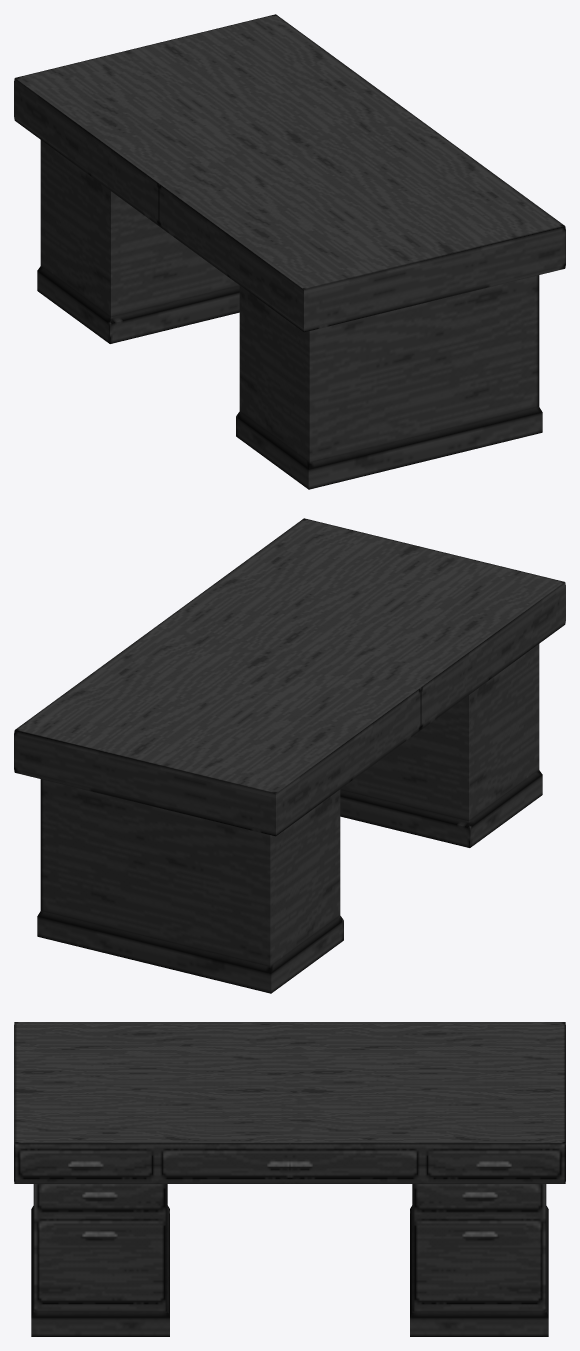
Rendered from desk_01.fbx.
The picture shows the model from 3 angles, top to bottom: view 1: azimuth 30°, elevation 25°; view 2: azimuth 150°, elevation 25°; view 3: azimuth 270°, elevation 25°; orthographic projection. The views are drawn at different scales.
Parts seen in each view (by area): view 1: desk; view 2: desk; view 3: desk.
Part boxes in pixels (bbox=[...]): desk: bbox=[14, 14, 565, 489]; desk: bbox=[14, 518, 565, 993]; desk: bbox=[14, 1022, 565, 1336].
Size of the model in its own units: 458 by 350 by 876.
